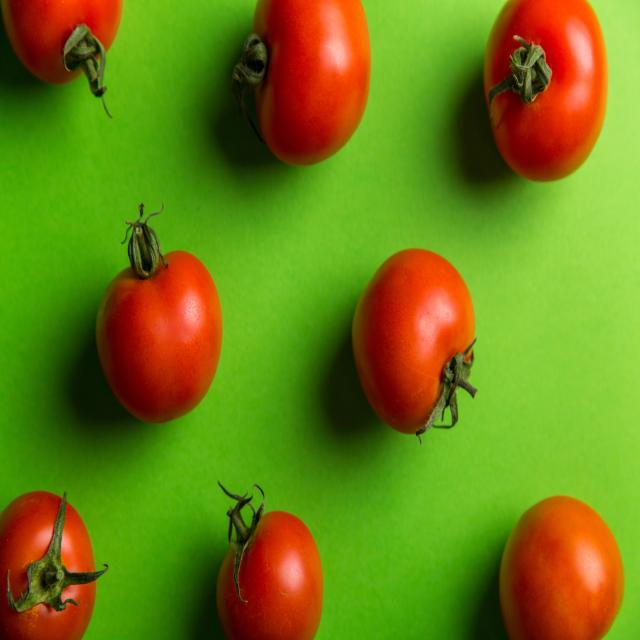Tomato: (347, 249, 478, 436), (95, 240, 223, 427), (190, 470, 328, 640), (483, 0, 611, 177), (232, 0, 372, 156), (490, 485, 626, 640), (0, 469, 114, 640)
